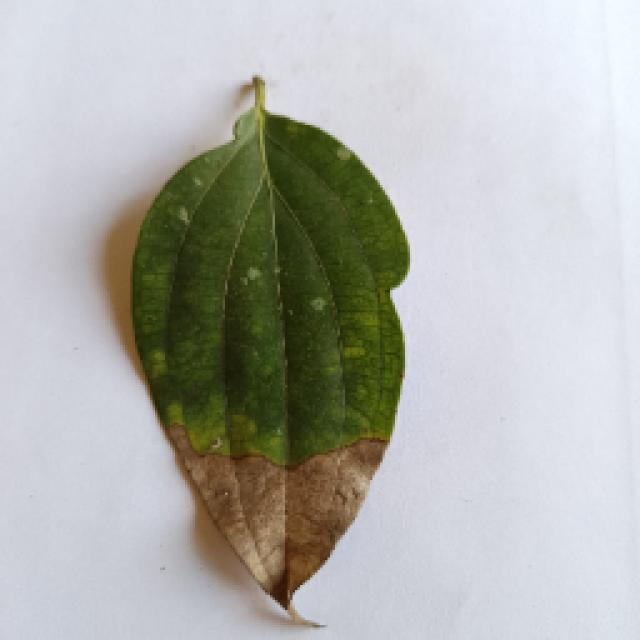footrot: (125, 80, 410, 628)
